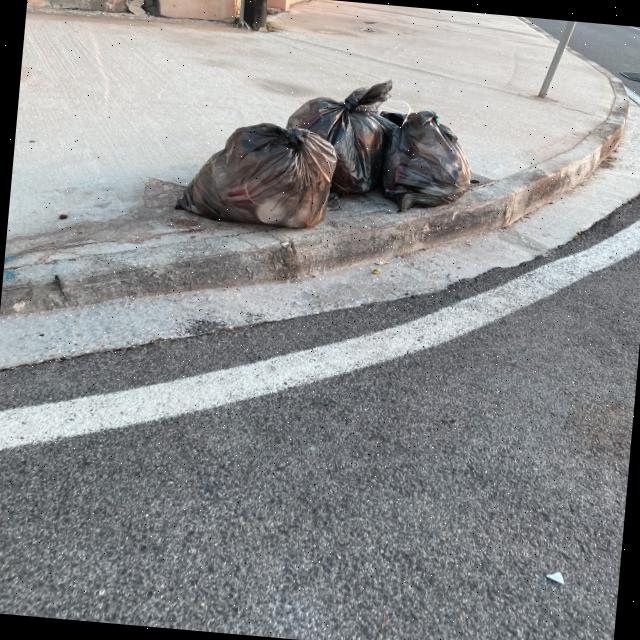Mixed Waste: (169, 113, 346, 236), (284, 64, 401, 200), (381, 103, 479, 220)
